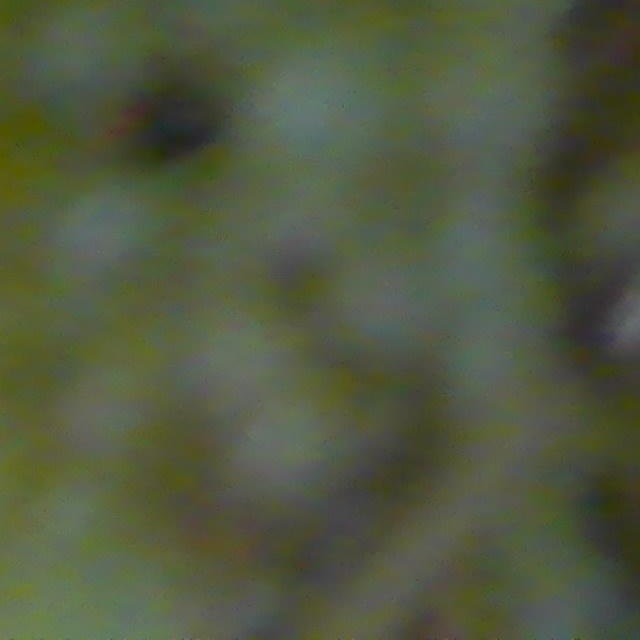SeaGrape: (245, 39, 399, 181)
